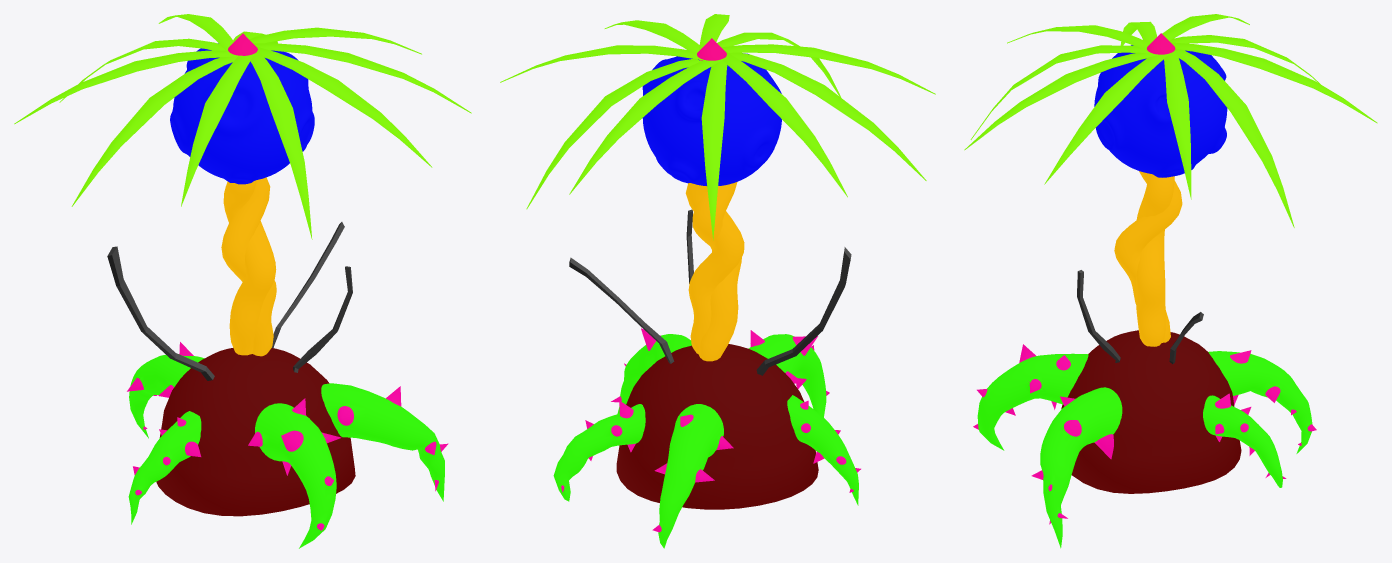
File: Plant_01_ranke_stage03.gltf
3 renders of one model, left to right at view 1: azimuth 30°, elevation 25°; view 2: azimuth 150°, elevation 25°; view 3: azimuth 270°, elevation 25°, orthographic. The views are drawn at different scales.
Visible parts, largest first — view 1: NurbsPath.002; view 2: NurbsPath.002; view 3: NurbsPath.002.
Boxes of the visible parts, left/top/right/bottom form: NurbsPath.002: left=14, top=14, right=471, bottom=548; NurbsPath.002: left=500, top=14, right=935, bottom=548; NurbsPath.002: left=964, top=14, right=1377, bottom=548.
Size of the model in its own units: 4.99 by 5.73 by 4.81.
